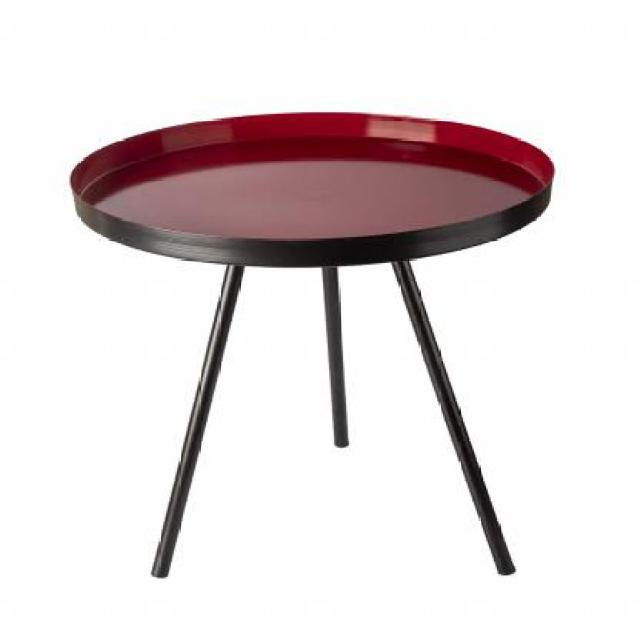table: (67, 109, 556, 588)
